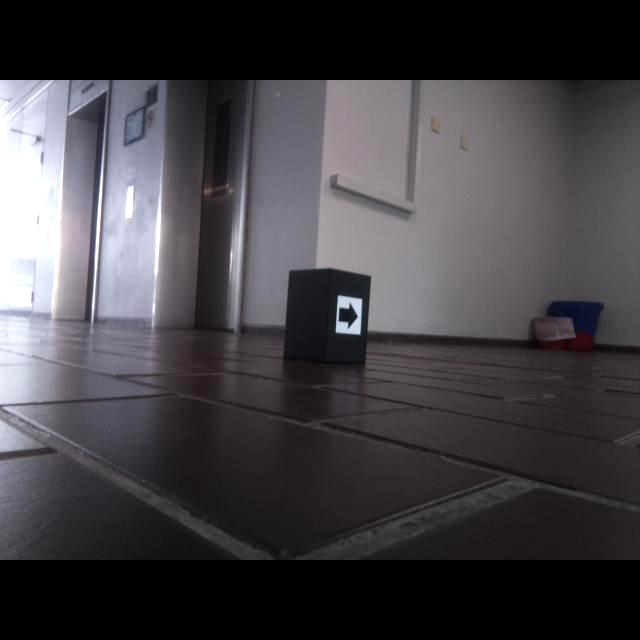RIGHT: (338, 301, 359, 330)
